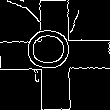O_E: (29, 33, 81, 77)
